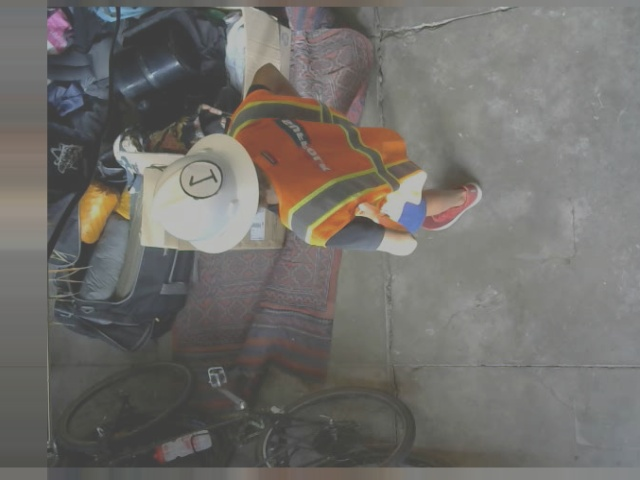one: (179, 161, 222, 198)
